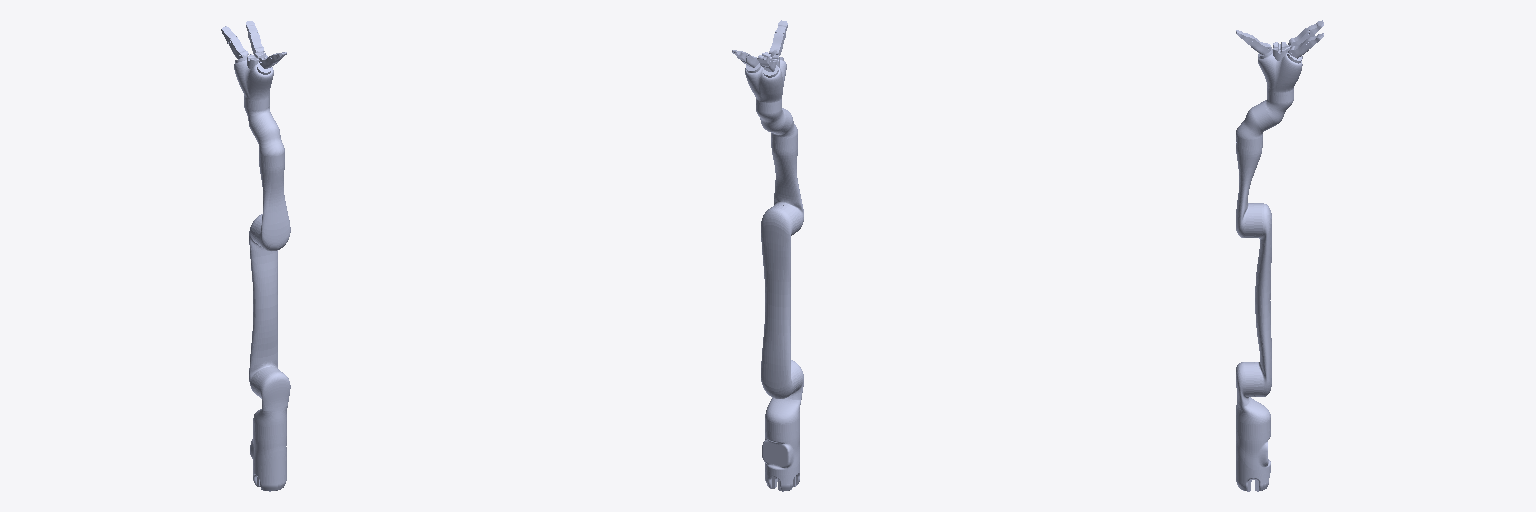
URDF robot description (j2n6s300):
<?xml version="1.0" ?>
<!-- =================================================================================== -->
<!-- |    This document was autogenerated by xacro from j2n6s300_standalone.xacro      | -->
<!-- |    EDITING THIS FILE BY HAND IS NOT RECOMMENDED                                 | -->
<!-- =================================================================================== -->
<!-- j2n6s300 refers to jaco v2 6DOF non-spherical 3fingers -->
<robot name="j2n6s300" xmlns:body="http://playerstage.sourceforge.net/gazebo/xmlschema/#body" xmlns:controller="http://playerstage.sourceforge.net/gazebo/xmlschema/#controller" xmlns:gazebo="http://playerstage.sourceforge.net/gazebo/xmlschema/#gz" xmlns:geom="http://playerstage.sourceforge.net/gazebo/xmlschema/#geom" xmlns:interface="http://playerstage.sourceforge.net/gazebo/xmlschema/#interface" xmlns:joint="http://playerstage.sourceforge.net/gazebo/xmlschema/#joint" xmlns:model="http://playerstage.sourceforge.net/gazebo/xmlschema/#model" xmlns:physics="http://playerstage.sourceforge.net/gazebo/xmlschema/#physics" xmlns:renderable="http://playerstage.sourceforge.net/gazebo/xmlschema/#renderable" xmlns:rendering="http://playerstage.sourceforge.net/gazebo/xmlschema/#rendering" xmlns:sensor="http://playerstage.sourceforge.net/gazebo/xmlschema/#sensor" xmlns:xacro="http://ros.org/wiki/xacro" xmlns:xi="http://www.w3.org/2001/XInclude">
  <!-- links      		mesh_no
   base           		0
   shoulder       		1
   arm            		2
   forearm        		3
   wrist          		4
   arm_mico       		5
   arm_half1 (7dof)		6
   arm_half2 (7dof)		7
   wrist_spherical_1  8
   wrist_spherical_2  9

   hand 3 finger  		55
   hand_2finger   		56
   finger_proximal		57
   finger_distal      58 
-->
  <!-- links      		mesh_no
   base           		0
   shoulder       		1
   arm            		2
   forearm        		3
   wrist          		4
   arm_mico       		5
   arm_half1 (7dof)		6
   arm_half2 (7dof)		7
   wrist_spherical_1  8
   wrist_spherical_2  9

   hand 3 finger  		55
   hand_2finger   		56
   finger_proximal		57
   finger_distal      58 
-->
  <link name="root">
    <visual>
      <origin rpy="0 0 0" xyz="0 0 0"/>
      <geometry>
        <box size="0 0 0"/>
      </geometry>
      <!--<material name="Black" /> -->
    </visual>
    <collision>
      <origin rpy="0 0 0" xyz="0 0 0"/>
      <geometry>
        <box size="0 0 0"/>
      </geometry>
    </collision>
  </link>
  <!-- for gazebo -->
  <link name="world"/>
  <joint name="connect_root_and_world" type="fixed">
    <child link="root"/>
    <parent link="world"/>
    <origin rpy="0 0 0" xyz="0 0 0"/>
  </joint>
  <!-- ros_control plugin -->
  <gazebo>
    <plugin filename="libgazebo_ros_control.so" name="gazebo_ros_control">
      <robotNamespace>j2n6s300</robotNamespace>
      <robotSimType>gazebo_ros_control/DefaultRobotHWSim</robotSimType>
    </plugin>
  </gazebo>
  <link name="j2n6s300_link_base">
    <visual>
      <geometry>
        <mesh filename="package://kinova_description/meshes/base.dae"/>
      </geometry>
      <material name="carbon_fiber">
        <color rgba="0.792156862745098 0.819607843137255 0.933333333333333 1"/>
      </material>
    </visual>
    <collision>
      <geometry>
        <mesh filename="package://kinova_description/meshes/base.dae"/>
      </geometry>
    </collision>
    <inertial>
      <mass value="0.46784"/>
      <origin rpy="0 0 0" xyz="0 0 0.1255"/>
      <inertia ixx="0.000951270861568" ixy="0" ixz="0" iyy="0.000951270861568" iyz="0" izz="0.000374272"/>
    </inertial>
  </link>
  <joint name="j2n6s300_joint_base" type="fixed">
    <parent link="root"/>
    <child link="j2n6s300_link_base"/>
    <axis xyz="0 0 0"/>
    <limit effort="2000" lower="0" upper="0" velocity="1"/>
    <origin rpy="0 0 0" xyz="0 0 0"/>
    <dynamics damping="0.0" friction="0.0"/>
  </joint>
  <link name="j2n6s300_link_1">
    <visual>
      <geometry>
        <mesh filename="package://kinova_description/meshes/shoulder.dae"/>
      </geometry>
      <material name="carbon_fiber">
        <color rgba="0.792156862745098 0.819607843137255 0.933333333333333 1"/>
      </material>
    </visual>
    <visual>
      <geometry>
        <mesh filename="package://kinova_description/meshes/ring_big.STL"/>
      </geometry>
    </visual>
    <collision>
      <geometry>
        <mesh filename="package://kinova_description/meshes/shoulder.dae"/>
      </geometry>
    </collision>
    <inertial>
      <mass value="0.7477"/>
      <origin xyz="0 -0.002 -0.0605"/>
      <inertia ixx="0.00152031725204" ixy="0" ixz="0" iyy="0.00152031725204" iyz="0" izz="0.00059816"/>
    </inertial>
  </link>
  <joint name="j2n6s300_joint_1" type="continuous">
    <parent link="j2n6s300_link_base"/>
    <child link="j2n6s300_link_1"/>
    <axis xyz="0 0 1"/>
    <limit effort="2000" lower="-6.28318530718" upper="6.28318530718" velocity="1"/>
    <origin rpy="0 3.14159265359 0" xyz="0 0 0.15675"/>
    <dynamics damping="0.0" friction="0.0"/>
  </joint>
  <transmission name="j2n6s300_joint_1_trans">
    <type>transmission_interface/SimpleTransmission</type>
    <joint name="j2n6s300_joint_1">
      <hardwareInterface>EffortJointInterface</hardwareInterface>
    </joint>
    <actuator name="j2n6s300_joint_1_actuator">
      <hardwareInterface>EffortJointInterface</hardwareInterface>
      <mechanicalReduction>160</mechanicalReduction>
    </actuator>
  </transmission>
  <link name="j2n6s300_link_2">
    <visual>
      <geometry>
        <mesh filename="package://kinova_description/meshes/arm.dae"/>
      </geometry>
      <material name="carbon_fiber">
        <color rgba="0.792156862745098 0.819607843137255 0.933333333333333 1"/>
      </material>
    </visual>
    <visual>
      <geometry>
        <mesh filename="package://kinova_description/meshes/ring_big.STL"/>
      </geometry>
    </visual>
    <collision>
      <geometry>
        <mesh filename="package://kinova_description/meshes/arm.dae"/>
      </geometry>
    </collision>
    <inertial>
      <mass value="0.99"/>
      <origin xyz="0 -0.2065 -0.01"/>
      <inertia ixx="0.010502207991" ixy="0" ixz="0" iyy="0.000792" iyz="0" izz="0.010502207991"/>
    </inertial>
  </link>
  <joint name="j2n6s300_joint_2" type="revolute">
    <parent link="j2n6s300_link_1"/>
    <child link="j2n6s300_link_2"/>
    <axis xyz="0 0 1"/>
    <limit effort="2000" lower="0.820304748437" upper="5.46288055874" velocity="1"/>
    <origin rpy="-1.57079632679 0 3.14159265359" xyz="0 0.0016 -0.11875"/>
    <dynamics damping="0.0" friction="0.0"/>
  </joint>
  <transmission name="j2n6s300_joint_2_trans">
    <type>transmission_interface/SimpleTransmission</type>
    <joint name="j2n6s300_joint_2">
      <hardwareInterface>EffortJointInterface</hardwareInterface>
    </joint>
    <actuator name="j2n6s300_joint_2_actuator">
      <hardwareInterface>EffortJointInterface</hardwareInterface>
      <mechanicalReduction>160</mechanicalReduction>
    </actuator>
  </transmission>
  <link name="j2n6s300_link_3">
    <visual>
      <geometry>
        <mesh filename="package://kinova_description/meshes/forearm.dae"/>
      </geometry>
      <material name="carbon_fiber">
        <color rgba="0.792156862745098 0.819607843137255 0.933333333333333 1"/>
      </material>
    </visual>
    <visual>
      <geometry>
        <mesh filename="package://kinova_description/meshes/ring_big.STL"/>
      </geometry>
    </visual>
    <collision>
      <geometry>
        <mesh filename="package://kinova_description/meshes/forearm.dae"/>
      </geometry>
    </collision>
    <inertial>
      <mass value="0.6763"/>
      <origin xyz="0 0.081 -0.0086"/>
      <inertia ixx="0.00142022431908" ixy="0" ixz="0" iyy="0.000304335" iyz="0" izz="0.00142022431908"/>
    </inertial>
  </link>
  <joint name="j2n6s300_joint_3" type="revolute">
    <parent link="j2n6s300_link_2"/>
    <child link="j2n6s300_link_3"/>
    <axis xyz="0 0 1"/>
    <limit effort="2000" lower="0.331612557879" upper="5.9515727493" velocity="1"/>
    <origin rpy="0 3.14159265359 0" xyz="0 -0.410 0"/>
    <dynamics damping="0.0" friction="0.0"/>
  </joint>
  <transmission name="j2n6s300_joint_3_trans">
    <type>transmission_interface/SimpleTransmission</type>
    <joint name="j2n6s300_joint_3">
      <hardwareInterface>EffortJointInterface</hardwareInterface>
    </joint>
    <actuator name="j2n6s300_joint_3_actuator">
      <hardwareInterface>EffortJointInterface</hardwareInterface>
      <mechanicalReduction>160</mechanicalReduction>
    </actuator>
  </transmission>
  <link name="j2n6s300_link_4">
    <visual>
      <geometry>
        <mesh filename="package://kinova_description/meshes/wrist.dae"/>
      </geometry>
      <material name="carbon_fiber">
        <color rgba="0.792156862745098 0.819607843137255 0.933333333333333 1"/>
      </material>
    </visual>
    <visual>
      <geometry>
        <mesh filename="package://kinova_description/meshes/ring_small.STL"/>
      </geometry>
    </visual>
    <collision>
      <geometry>
        <mesh filename="package://kinova_description/meshes/wrist.dae"/>
      </geometry>
    </collision>
    <inertial>
      <mass value="0.426367"/>
      <origin xyz="0 -0.037 -0.0642"/>
      <inertia ixx="7.73496906e-05" ixy="0" ixz="0" iyy="7.73496906e-05" iyz="0" izz="0.0001428"/>
    </inertial>
  </link>
  <joint name="j2n6s300_joint_4" type="continuous">
    <parent link="j2n6s300_link_3"/>
    <child link="j2n6s300_link_4"/>
    <axis xyz="0 0 1"/>
    <limit effort="2000" lower="-6.28318530718" upper="6.28318530718" velocity="1"/>
    <origin rpy="-1.57079632679 0 3.14159265359" xyz="0 0.2073 -0.0114"/>
    <dynamics damping="0.0" friction="0.0"/>
  </joint>
  <transmission name="j2n6s300_joint_4_trans">
    <type>transmission_interface/SimpleTransmission</type>
    <joint name="j2n6s300_joint_4">
      <hardwareInterface>EffortJointInterface</hardwareInterface>
    </joint>
    <actuator name="j2n6s300_joint_4_actuator">
      <hardwareInterface>EffortJointInterface</hardwareInterface>
      <mechanicalReduction>160</mechanicalReduction>
    </actuator>
  </transmission>
  <link name="j2n6s300_link_5">
    <visual>
      <geometry>
        <mesh filename="package://kinova_description/meshes/wrist.dae"/>
      </geometry>
      <material name="carbon_fiber">
        <color rgba="0.792156862745098 0.819607843137255 0.933333333333333 1"/>
      </material>
    </visual>
    <visual>
      <geometry>
        <mesh filename="package://kinova_description/meshes/ring_small.STL"/>
      </geometry>
    </visual>
    <collision>
      <geometry>
        <mesh filename="package://kinova_description/meshes/wrist.dae"/>
      </geometry>
    </collision>
    <inertial>
      <mass value="0.426367"/>
      <origin xyz="0 -0.037 -0.0642"/>
      <inertia ixx="7.73496906e-05" ixy="0" ixz="0" iyy="7.73496906e-05" iyz="0" izz="0.0001428"/>
    </inertial>
  </link>
  <joint name="j2n6s300_joint_5" type="continuous">
    <parent link="j2n6s300_link_4"/>
    <child link="j2n6s300_link_5"/>
    <axis xyz="0 0 1"/>
    <limit effort="2000" lower="-6.28318530718" upper="6.28318530718" velocity="1"/>
    <origin rpy="1.0471975512 0 3.14159265359" xyz="0 -0.03703 -0.06414"/>
    <dynamics damping="0.0" friction="0.0"/>
  </joint>
  <transmission name="j2n6s300_joint_5_trans">
    <type>transmission_interface/SimpleTransmission</type>
    <joint name="j2n6s300_joint_5">
      <hardwareInterface>EffortJointInterface</hardwareInterface>
    </joint>
    <actuator name="j2n6s300_joint_5_actuator">
      <hardwareInterface>EffortJointInterface</hardwareInterface>
      <mechanicalReduction>160</mechanicalReduction>
    </actuator>
  </transmission>
  <link name="j2n6s300_link_6">
    <visual>
      <geometry>
        <mesh filename="package://kinova_description/meshes/hand_3finger.dae"/>
      </geometry>
      <material name="carbon_fiber">
        <color rgba="0.792156862745098 0.819607843137255 0.933333333333333 1"/>
      </material>
    </visual>
    <visual>
      <geometry>
        <mesh filename="package://kinova_description/meshes/ring_small.STL"/>
      </geometry>
    </visual>
    <collision>
      <geometry>
        <mesh filename="package://kinova_description/meshes/hand_3finger.dae"/>
      </geometry>
    </collision>
    <inertial>
      <mass value="0.99"/>
      <origin xyz="0 0 -0.06"/>
      <inertia ixx="0.0003453236187" ixy="0" ixz="0" iyy="0.0003453236187" iyz="0" izz="0.0005816"/>
    </inertial>
  </link>
  <joint name="j2n6s300_joint_6" type="continuous">
    <parent link="j2n6s300_link_5"/>
    <child link="j2n6s300_link_6"/>
    <axis xyz="0 0 1"/>
    <limit effort="2000" lower="-6.28318530718" upper="6.28318530718" velocity="1"/>
    <origin rpy="1.0471975512 0 3.14159265359" xyz="0 -0.03703 -0.06414"/>
    <dynamics damping="0.0" friction="0.0"/>
  </joint>
  <transmission name="j2n6s300_joint_6_trans">
    <type>transmission_interface/SimpleTransmission</type>
    <joint name="j2n6s300_joint_6">
      <hardwareInterface>EffortJointInterface</hardwareInterface>
    </joint>
    <actuator name="j2n6s300_joint_6_actuator">
      <hardwareInterface>EffortJointInterface</hardwareInterface>
      <mechanicalReduction>160</mechanicalReduction>
    </actuator>
  </transmission>
  <link name="j2n6s300_end_effector">
    <visual>
      <geometry>
        <box size="0 0 0"/>
      </geometry>
    </visual>
    <collision>
      <geometry>
        <box size="0 0 0"/>
      </geometry>
    </collision>
  </link>
  <joint name="j2n6s300_joint_end_effector" type="fixed">
    <parent link="j2n6s300_link_6"/>
    <child link="j2n6s300_end_effector"/>
    <axis xyz="0 0 0"/>
    <limit effort="2000" lower="0" upper="0" velocity="1"/>
    <origin rpy="3.14159265359 0 1.57079632679" xyz="0 0 -0.1600"/>
  </joint>
  <link name="j2n6s300_link_finger_1">
    <visual>
      <geometry>
        <mesh filename="package://kinova_description/meshes/finger_proximal.dae"/>
      </geometry>
      <material name="carbon_fiber">
        <color rgba="0.792156862745098 0.819607843137255 0.933333333333333 1"/>
      </material>
    </visual>
    <collision>
      <geometry>
        <mesh filename="package://kinova_description/meshes/finger_proximal.dae"/>
      </geometry>
    </collision>
    <inertial>
      <mass value="0.01"/>
      <origin xyz="0.022 0 0"/>
      <inertia ixx="7.8999684e-07" ixy="0" ixz="0" iyy="7.8999684e-07" iyz="0" izz="8e-08"/>
    </inertial>
  </link>
  <joint name="j2n6s300_joint_finger_1" type="revolute">
    <parent link="j2n6s300_link_6"/>
    <child link="j2n6s300_link_finger_1"/>
    <axis xyz="0 0 1"/>
    <origin rpy="-1.570796327 .649262481663582 1.35961148639407" xyz="0.00279 0.03126 -0.11467"/>
    <limit effort="2000" lower="0" upper="2" velocity="1"/>
  </joint>
  <transmission name="j2n6s300_joint_finger_1_trans">
    <type>transmission_interface/SimpleTransmission</type>
    <joint name="j2n6s300_joint_finger_1">
      <hardwareInterface>EffortJointInterface</hardwareInterface>
    </joint>
    <actuator name="j2n6s300_joint_finger_1_actuator">
      <hardwareInterface>EffortJointInterface</hardwareInterface>
      <mechanicalReduction>1</mechanicalReduction>
    </actuator>
  </transmission>
  <link name="j2n6s300_link_finger_tip_1">
    <visual>
      <geometry>
        <mesh filename="package://kinova_description/meshes/finger_distal.dae"/>
      </geometry>
      <material name="carbon_fiber">
        <color rgba="0.792156862745098 0.819607843137255 0.933333333333333 1"/>
      </material>
    </visual>
    <collision>
      <geometry>
        <mesh filename="package://kinova_description/meshes/finger_distal.dae"/>
      </geometry>
    </collision>
    <inertial>
      <mass value="0.01"/>
      <origin xyz="0.022 0 0"/>
      <inertia ixx="7.8999684e-07" ixy="0" ixz="0" iyy="7.8999684e-07" iyz="0" izz="8e-08"/>
    </inertial>
  </link>
  <joint name="j2n6s300_joint_finger_tip_1" type="fixed">
    <parent link="j2n6s300_link_finger_1"/>
    <child link="j2n6s300_link_finger_tip_1"/>
    <axis xyz="0 0 1"/>
    <origin rpy="0 0 0" xyz="0.044 -0.003 0"/>
    <limit effort="2000" lower="0" upper="2" velocity="1"/>
  </joint>
  <link name="j2n6s300_link_finger_2">
    <visual>
      <geometry>
        <mesh filename="package://kinova_description/meshes/finger_proximal.dae"/>
      </geometry>
      <material name="carbon_fiber">
        <color rgba="0.792156862745098 0.819607843137255 0.933333333333333 1"/>
      </material>
    </visual>
    <collision>
      <geometry>
        <mesh filename="package://kinova_description/meshes/finger_proximal.dae"/>
      </geometry>
    </collision>
    <inertial>
      <mass value="0.01"/>
      <origin xyz="0.022 0 0"/>
      <inertia ixx="7.8999684e-07" ixy="0" ixz="0" iyy="7.8999684e-07" iyz="0" izz="8e-08"/>
    </inertial>
  </link>
  <joint name="j2n6s300_joint_finger_2" type="revolute">
    <parent link="j2n6s300_link_6"/>
    <child link="j2n6s300_link_finger_2"/>
    <axis xyz="0 0 1"/>
    <origin rpy="-1.570796327 .649262481663582 -1.38614049188413" xyz="0.02226 -0.02707 -0.11482"/>
    <limit effort="2000" lower="0" upper="2" velocity="1"/>
  </joint>
  <transmission name="j2n6s300_joint_finger_2_trans">
    <type>transmission_interface/SimpleTransmission</type>
    <joint name="j2n6s300_joint_finger_2">
      <hardwareInterface>EffortJointInterface</hardwareInterface>
    </joint>
    <actuator name="j2n6s300_joint_finger_2_actuator">
      <hardwareInterface>EffortJointInterface</hardwareInterface>
      <mechanicalReduction>1</mechanicalReduction>
    </actuator>
  </transmission>
  <link name="j2n6s300_link_finger_tip_2">
    <visual>
      <geometry>
        <mesh filename="package://kinova_description/meshes/finger_distal.dae"/>
      </geometry>
      <material name="carbon_fiber">
        <color rgba="0.792156862745098 0.819607843137255 0.933333333333333 1"/>
      </material>
    </visual>
    <collision>
      <geometry>
        <mesh filename="package://kinova_description/meshes/finger_distal.dae"/>
      </geometry>
    </collision>
    <inertial>
      <mass value="0.01"/>
      <origin xyz="0.022 0 0"/>
      <inertia ixx="7.8999684e-07" ixy="0" ixz="0" iyy="7.8999684e-07" iyz="0" izz="8e-08"/>
    </inertial>
  </link>
  <joint name="j2n6s300_joint_finger_tip_2" type="fixed">
    <parent link="j2n6s300_link_finger_2"/>
    <child link="j2n6s300_link_finger_tip_2"/>
    <axis xyz="0 0 1"/>
    <origin rpy="0 0 0" xyz="0.044 -0.003 0"/>
    <limit effort="2000" lower="0" upper="2" velocity="1"/>
  </joint>
  <link name="j2n6s300_link_finger_3">
    <visual>
      <geometry>
        <mesh filename="package://kinova_description/meshes/finger_proximal.dae"/>
      </geometry>
      <material name="carbon_fiber">
        <color rgba="0.792156862745098 0.819607843137255 0.933333333333333 1"/>
      </material>
    </visual>
    <collision>
      <geometry>
        <mesh filename="package://kinova_description/meshes/finger_proximal.dae"/>
      </geometry>
    </collision>
    <inertial>
      <mass value="0.01"/>
      <origin xyz="0.022 0 0"/>
      <inertia ixx="7.8999684e-07" ixy="0" ixz="0" iyy="7.8999684e-07" iyz="0" izz="8e-08"/>
    </inertial>
  </link>
  <joint name="j2n6s300_joint_finger_3" type="revolute">
    <parent link="j2n6s300_link_6"/>
    <child link="j2n6s300_link_finger_3"/>
    <axis xyz="0 0 1"/>
    <origin rpy="-1.570796327 .649262481663582 -1.75545216211587" xyz="-0.02226 -0.02707 -0.11482"/>
    <limit effort="2000" lower="0" upper="2" velocity="1"/>
  </joint>
  <transmission name="j2n6s300_joint_finger_3_trans">
    <type>transmission_interface/SimpleTransmission</type>
    <joint name="j2n6s300_joint_finger_3">
      <hardwareInterface>EffortJointInterface</hardwareInterface>
    </joint>
    <actuator name="j2n6s300_joint_finger_3_actuator">
      <hardwareInterface>EffortJointInterface</hardwareInterface>
      <mechanicalReduction>1</mechanicalReduction>
    </actuator>
  </transmission>
  <link name="j2n6s300_link_finger_tip_3">
    <visual>
      <geometry>
        <mesh filename="package://kinova_description/meshes/finger_distal.dae"/>
      </geometry>
      <material name="carbon_fiber">
        <color rgba="0.792156862745098 0.819607843137255 0.933333333333333 1"/>
      </material>
    </visual>
    <collision>
      <geometry>
        <mesh filename="package://kinova_description/meshes/finger_distal.dae"/>
      </geometry>
    </collision>
    <inertial>
      <mass value="0.01"/>
      <origin xyz="0.022 0 0"/>
      <inertia ixx="7.8999684e-07" ixy="0" ixz="0" iyy="7.8999684e-07" iyz="0" izz="8e-08"/>
    </inertial>
  </link>
  <joint name="j2n6s300_joint_finger_tip_3" type="fixed">
    <parent link="j2n6s300_link_finger_3"/>
    <child link="j2n6s300_link_finger_tip_3"/>
    <axis xyz="0 0 1"/>
    <origin rpy="0 0 0" xyz="0.044 -0.003 0"/>
    <limit effort="2000" lower="0" upper="2" velocity="1"/>
  </joint>
</robot>

--- Facts derived from the render (not from the file) ---
3 views of the same robot in one strip: view 1: azimuth 30°, elevation 25°; view 2: azimuth 150°, elevation 25°; view 3: azimuth 270°, elevation 25° (orthographic).
Model j2n6s300 with 16 links and 15 joints (5 revolute, 4 continuous, 6 fixed), rooted at world, posed all joints at 0 but 2 set to mid-range because 0 is outside their limits (j2n6s300_joint_2 = 3.14, j2n6s300_joint_3 = 3.14).
Visible links, largest first — view 1: j2n6s300_link_2, j2n6s300_link_3, j2n6s300_link_1, j2n6s300_link_base, j2n6s300_link_6, j2n6s300_link_4, j2n6s300_link_5; view 2: j2n6s300_link_2, j2n6s300_link_base, j2n6s300_link_3, j2n6s300_link_6, j2n6s300_link_1, j2n6s300_link_5; view 3: j2n6s300_link_2, j2n6s300_link_base, j2n6s300_link_6, j2n6s300_link_1, j2n6s300_link_3, j2n6s300_link_4, j2n6s300_link_5.
Link boxes in pixels (bbox=[...]): j2n6s300_link_2: bbox=[249, 214, 277, 395]; j2n6s300_link_3: bbox=[255, 158, 290, 251]; j2n6s300_link_1: bbox=[253, 368, 290, 434]; j2n6s300_link_base: bbox=[250, 429, 286, 491]; j2n6s300_link_6: bbox=[234, 49, 273, 103]; j2n6s300_link_4: bbox=[253, 120, 284, 162]; j2n6s300_link_5: bbox=[244, 100, 274, 132]; j2n6s300_link_2: bbox=[761, 205, 797, 398]; j2n6s300_link_base: bbox=[762, 427, 799, 491]; j2n6s300_link_3: bbox=[771, 140, 803, 232]; j2n6s300_link_6: bbox=[745, 50, 786, 106]; j2n6s300_link_1: bbox=[765, 360, 803, 431]; j2n6s300_link_5: bbox=[756, 103, 788, 133]; j2n6s300_link_2: bbox=[1254, 203, 1271, 396]; j2n6s300_link_base: bbox=[1236, 427, 1270, 491]; j2n6s300_link_6: bbox=[1258, 40, 1302, 96]; j2n6s300_link_1: bbox=[1236, 362, 1270, 432]; j2n6s300_link_3: bbox=[1236, 141, 1262, 237]; j2n6s300_link_4: bbox=[1236, 105, 1269, 145]; j2n6s300_link_5: bbox=[1258, 92, 1293, 127].
Bounding box of the posed robot: 0.0927 × 0.2083 × 1.18 m (x, y, z).
13 mesh visuals loaded from 10 distinct referenced files (8 Collada DAE); not drawn: 6 (reference not matched to a file when rendering).